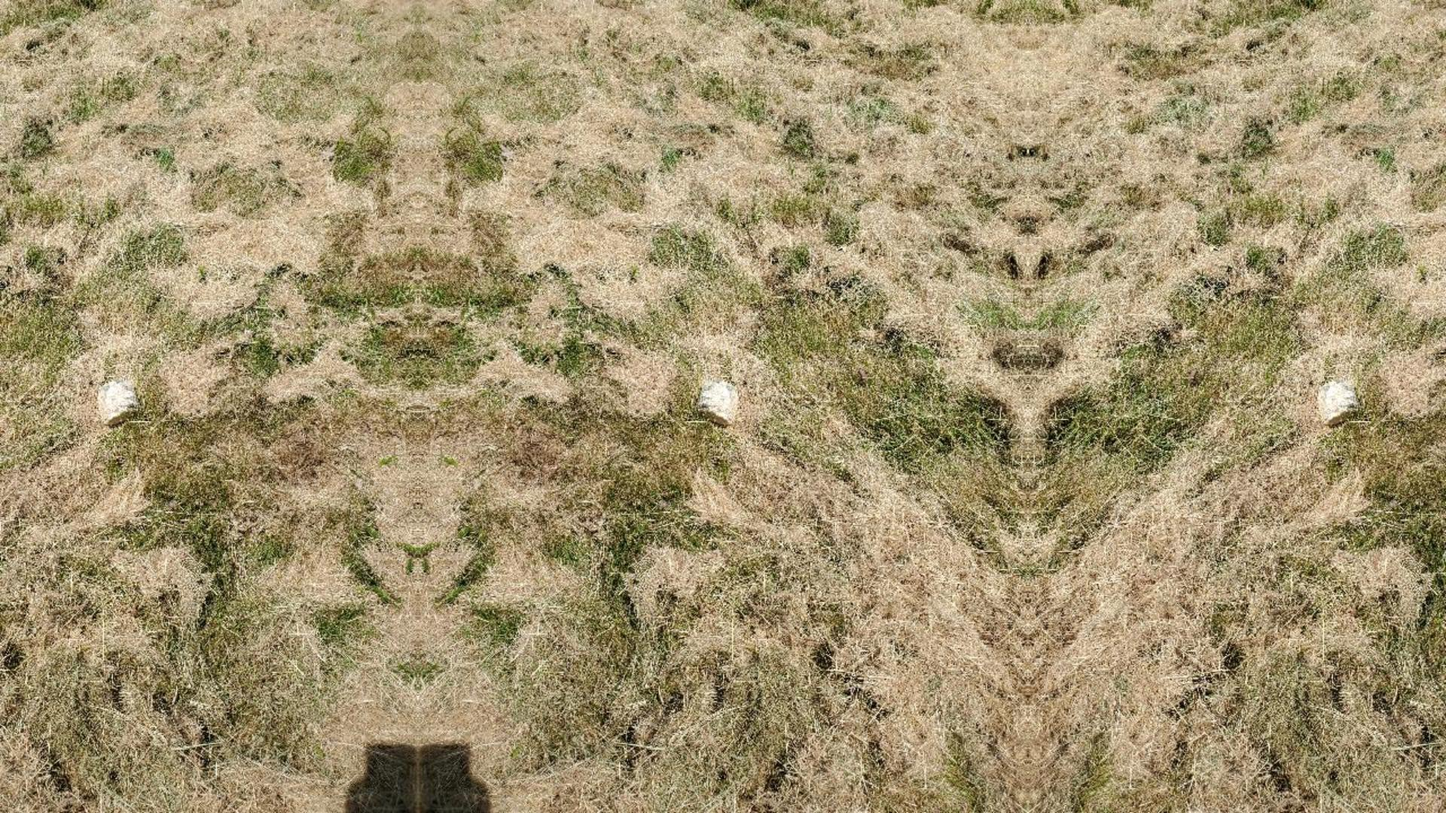rock: (97, 379, 138, 426), (1318, 381, 1359, 427), (697, 379, 737, 425)
